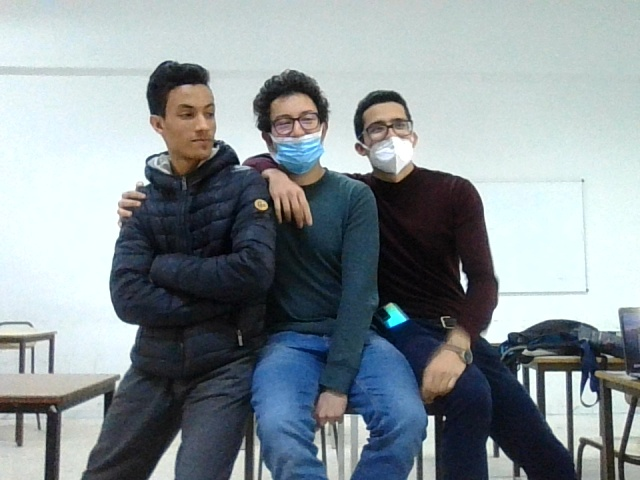mask_weared_incorrect: (251, 74, 336, 182), (353, 90, 435, 181)
without_mask: (140, 55, 243, 182)
